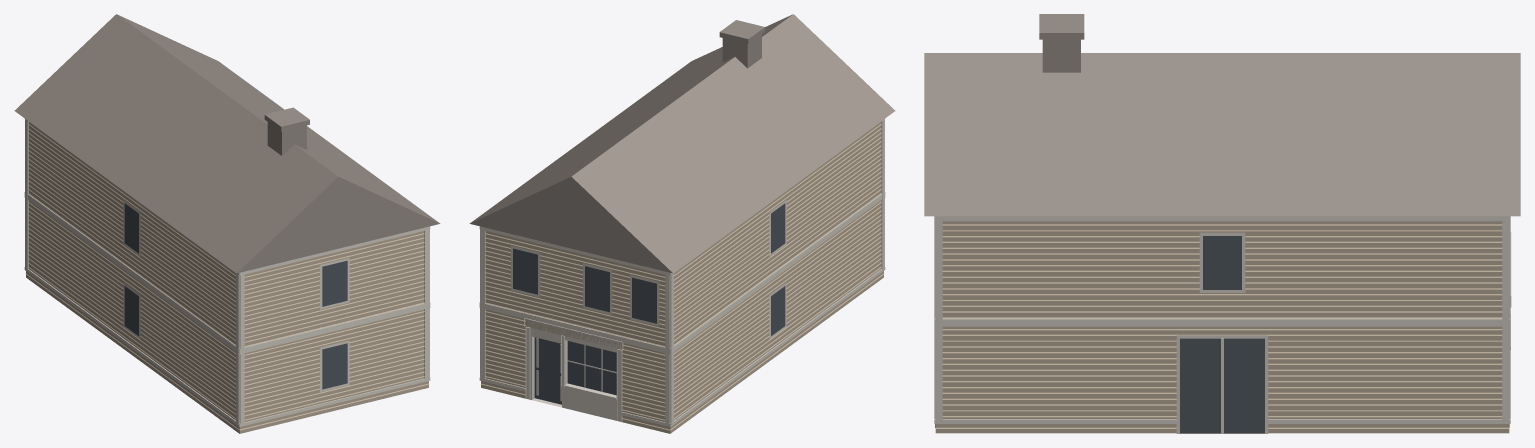
The model's file is recon_1835_south_c3_015__inferred_1835.glb.
3 views of the same model, side by side, from view 1: azimuth 30°, elevation 25°; view 2: azimuth 150°, elevation 25°; view 3: azimuth 270°, elevation 25° (orthographic). The views are drawn at different scales.
Visible parts, largest first — view 1: recon_1835_south_c3_015__inferred_1835; view 2: recon_1835_south_c3_015__inferred_1835; view 3: recon_1835_south_c3_015__inferred_1835.
Part boxes in pixels (left/top/right/bottom): recon_1835_south_c3_015__inferred_1835: left=14, top=14, right=440, bottom=433; recon_1835_south_c3_015__inferred_1835: left=469, top=14, right=895, bottom=433; recon_1835_south_c3_015__inferred_1835: left=924, top=14, right=1520, bottom=433.
Bounding box in the file's own units: 6.91 × 8.39 × 13.03.
